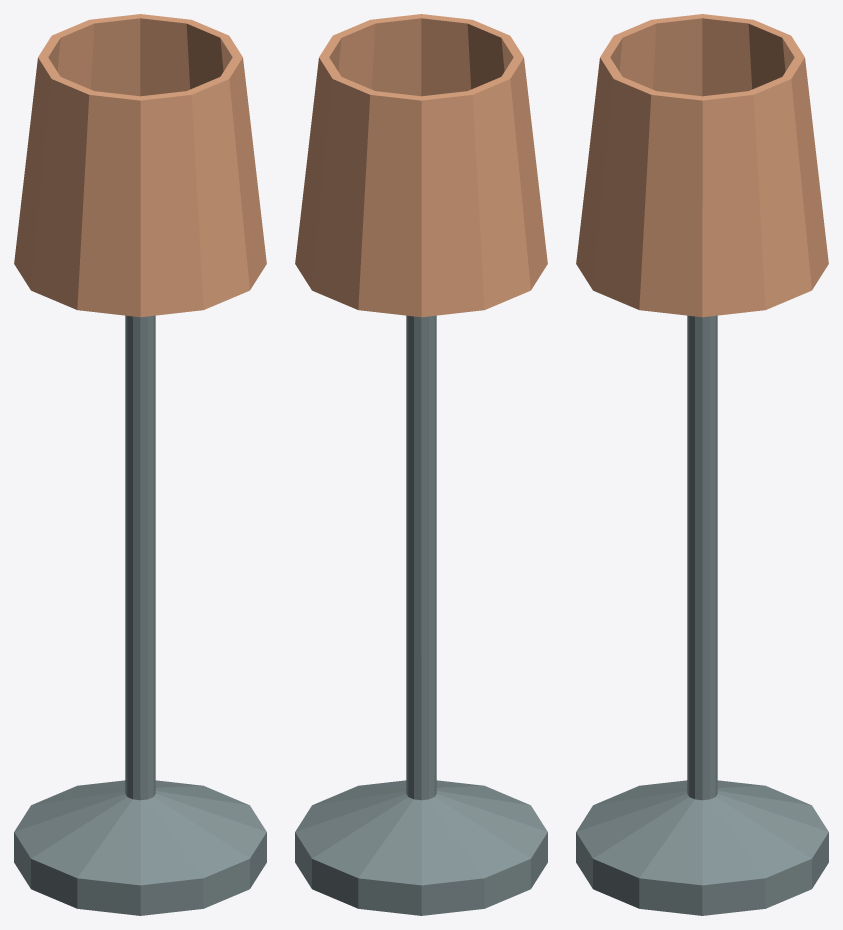
Rendered from LargeLamp.fbx.
The picture shows the model from 3 angles, left to right: view 1: azimuth 30°, elevation 25°; view 2: azimuth 150°, elevation 25°; view 3: azimuth 270°, elevation 25°; orthographic projection.
Parts seen in each view (by area): view 1: Cylinder.001, Cylinder; view 2: Cylinder.001, Cylinder; view 3: Cylinder.001, Cylinder.
Boxes of the visible parts, x1,y1,x2,y2 form: Cylinder.001: [14, 14, 266, 317]; Cylinder: [14, 315, 266, 915]; Cylinder.001: [295, 14, 547, 317]; Cylinder: [295, 315, 547, 915]; Cylinder.001: [576, 14, 828, 317]; Cylinder: [576, 315, 828, 915].
Size of the model in its own units: 150 by 527 by 150.
